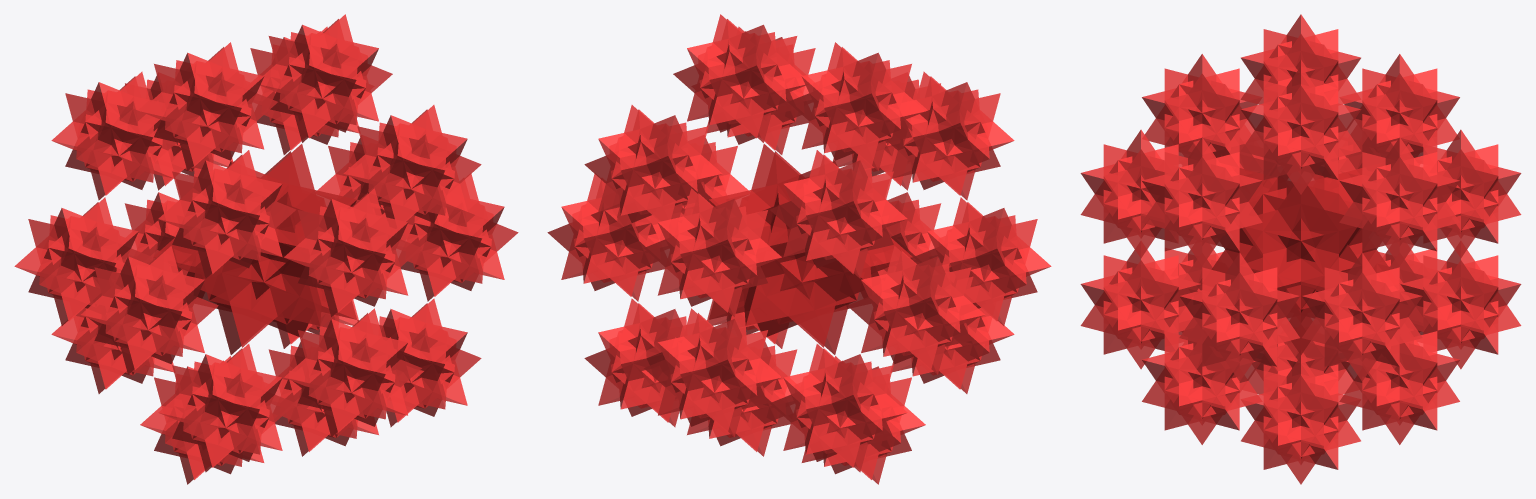
File: fractalgreatrhombictriacontahedron1.glb
The picture shows the model from 3 angles, left to right: view 1: azimuth 30°, elevation 25°; view 2: azimuth 150°, elevation 25°; view 3: azimuth 270°, elevation 25°; orthographic projection. The views are drawn at different scales.
Bounding box in the file's own units: 11.17 × 11.17 × 11.17.
